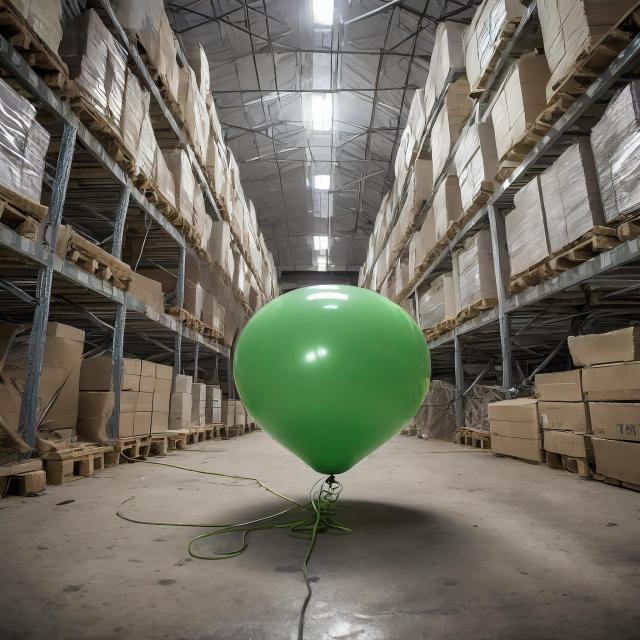green: (237, 286, 432, 476)
